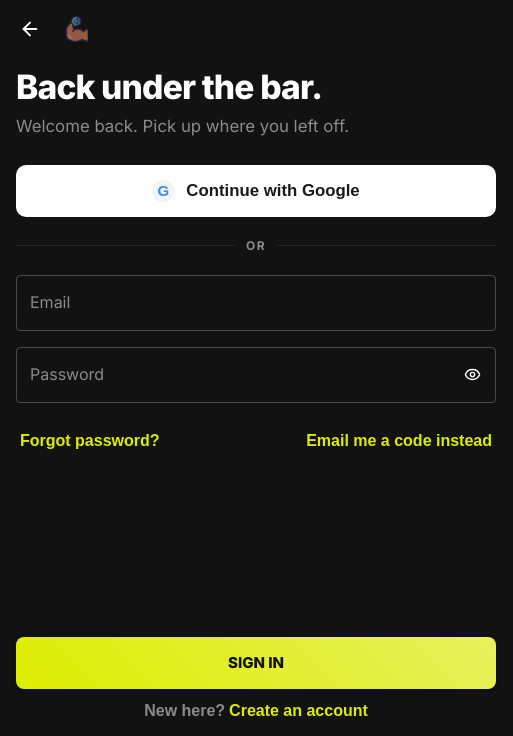
Test case: MobileAuth sign in › shows the lockout countdown when Clerk freezes the account
Type "dev@example.com" into the field labelled "Email" at (256,303), box left=16, top=275, right=496, bottom=331
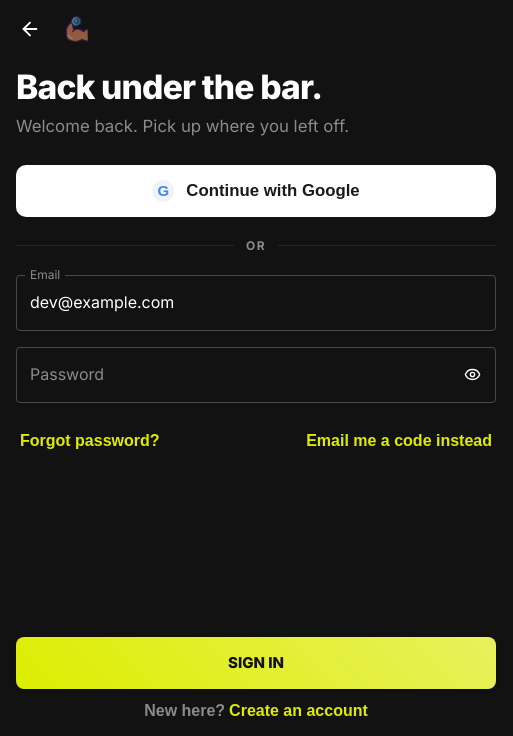
Type "x" into the password field labelled "Password" at (233,375), box left=16, top=347, right=450, bottom=403
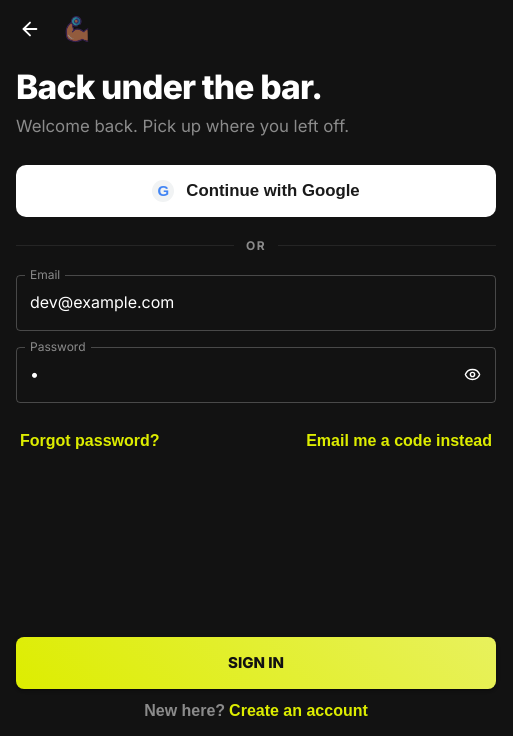
Click the button "Sign in" at (256,663), box left=16, top=637, right=496, bottom=689
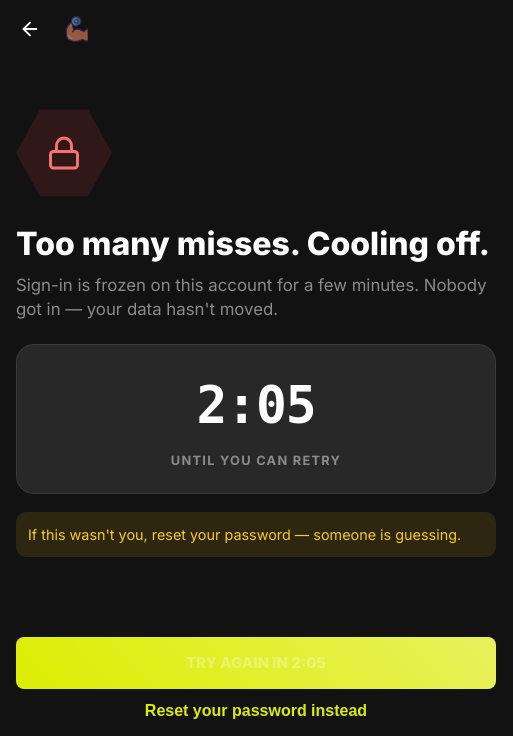
Expected: the heading "Too many misses. Cooling off." is shown, left=16, top=227, right=496, bottom=261
Expected: the text "2:05" is shown, left=196, top=375, right=316, bottom=435
Expected: the button "Try again in 2:05" is disabled, left=16, top=637, right=496, bottom=689
